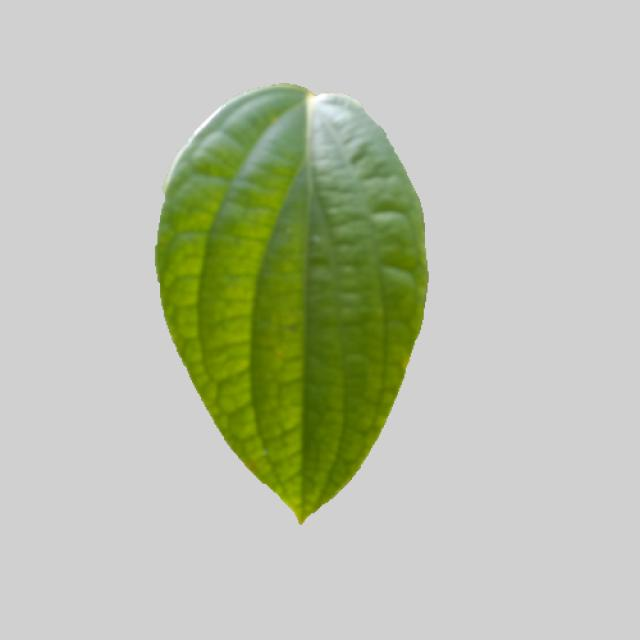healthy: (152, 82, 432, 533)
